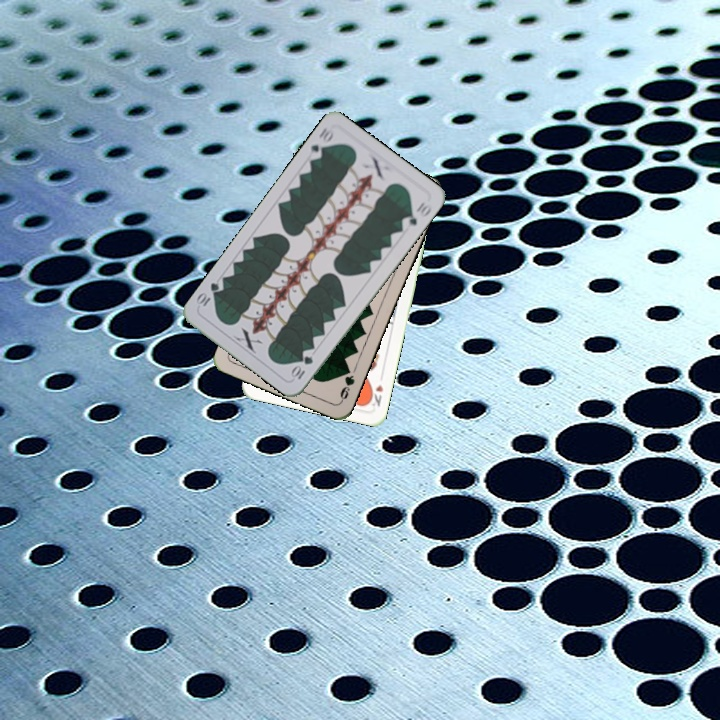G10: (306, 123, 337, 163), (287, 352, 316, 382)
G9: (336, 363, 357, 404)
HK: (364, 381, 386, 409)
